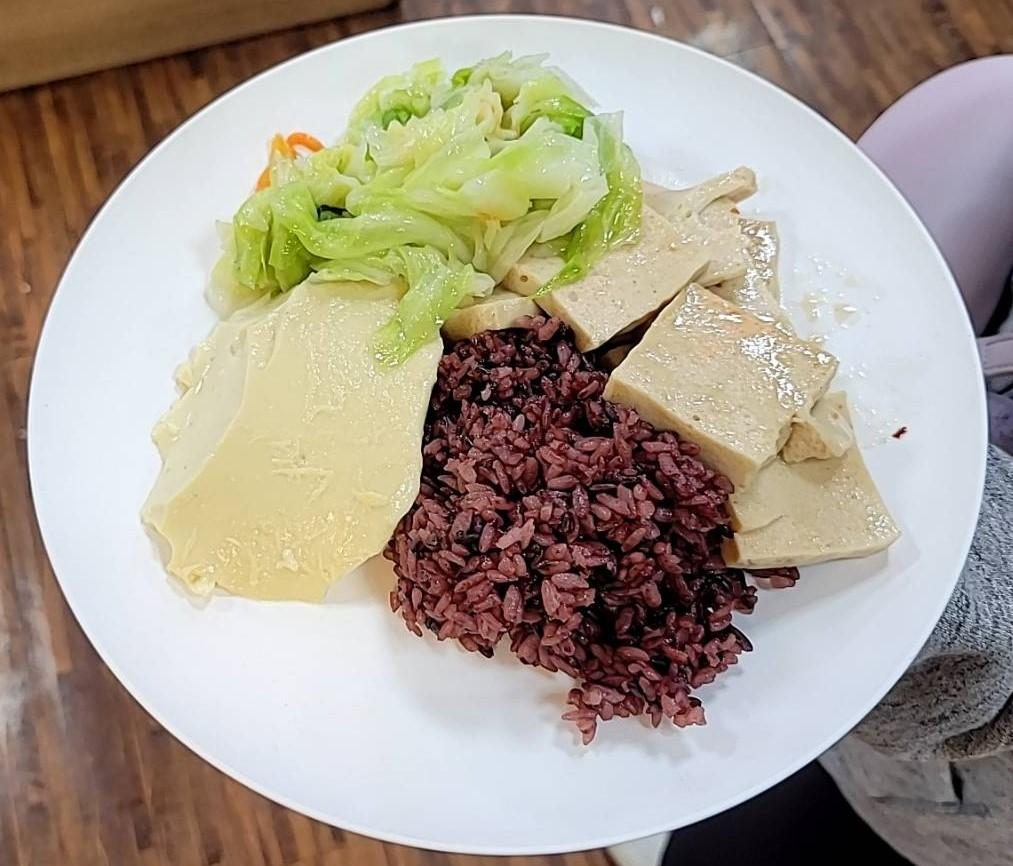big fried chicken leg: (26, 14, 1013, 850)
braised fish: (385, 328, 743, 706)
braised fish fillet: (520, 180, 895, 572), (224, 56, 630, 319), (143, 268, 446, 608)
